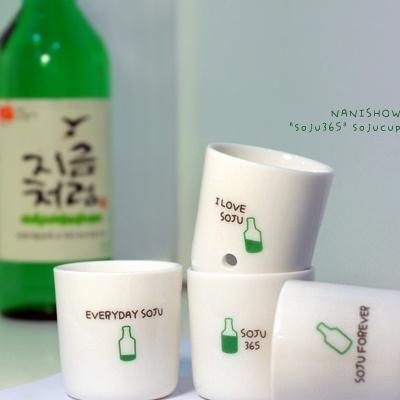soju: (1, 4, 118, 319)
